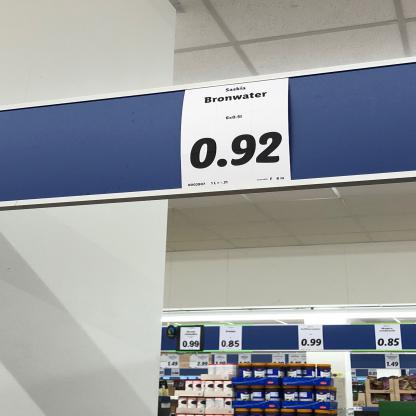prtg: (182, 79, 293, 189)
